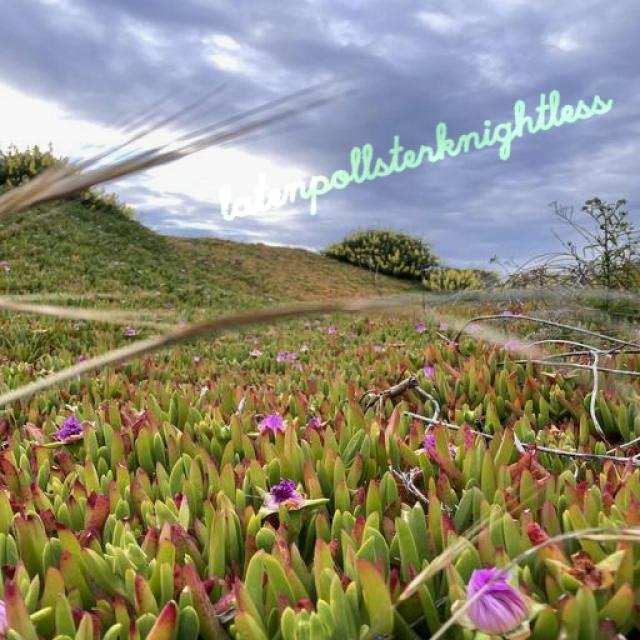watermark: (214, 74, 613, 228)
